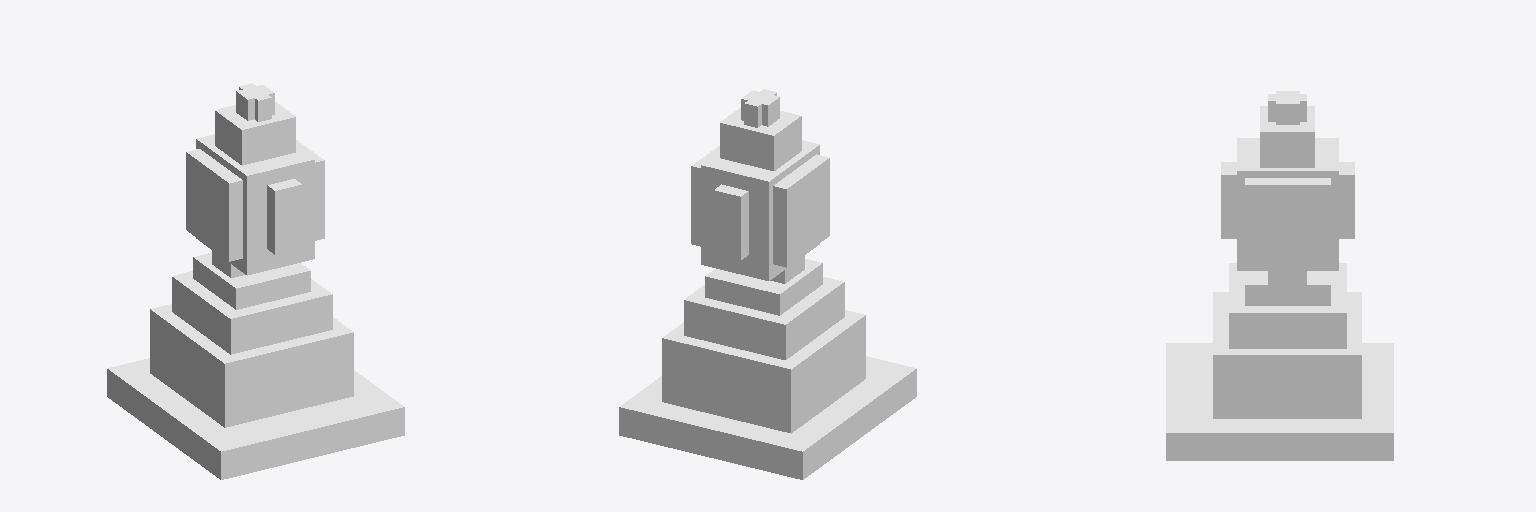
Rendered from DotTower0.obj.
3 views of the same model, side by side, from view 1: azimuth 30°, elevation 25°; view 2: azimuth 150°, elevation 25°; view 3: azimuth 270°, elevation 25° (orthographic).
Visible parts, largest first — view 1: DotTower0; view 2: DotTower0; view 3: DotTower0.
Boxes of the visible parts, x1=… form: DotTower0: x1=107, y1=83, x2=404, y2=479; DotTower0: x1=619, y1=89, x2=916, y2=479; DotTower0: x1=1166, y1=91, x2=1393, y2=460.
Size of the model in its own units: 27 by 45 by 29.